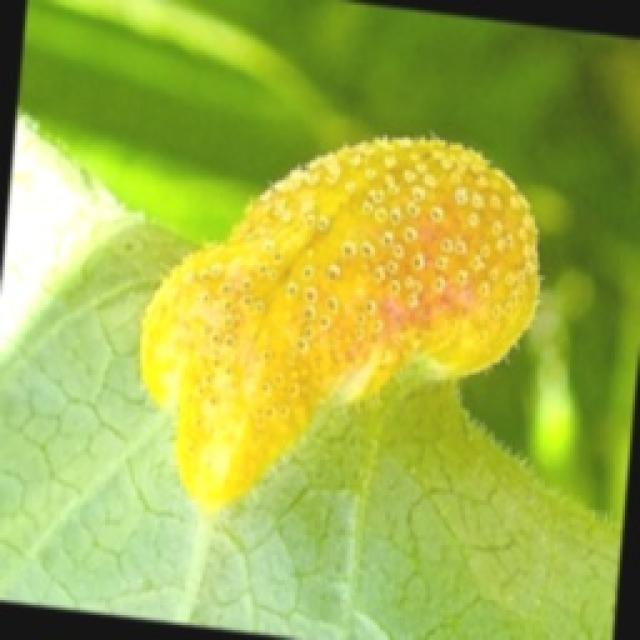Elderberry_rust: (121, 140, 561, 468)
